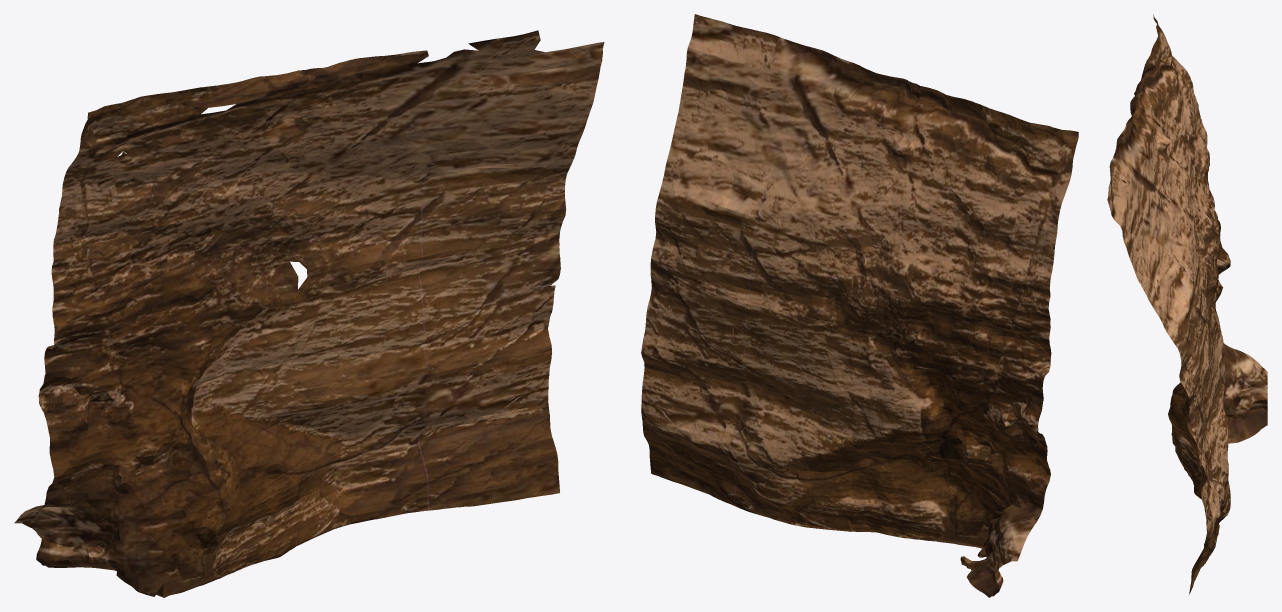
3 views of the same model, side by side, from view 1: azimuth 30°, elevation 25°; view 2: azimuth 150°, elevation 25°; view 3: azimuth 270°, elevation 25° (orthographic). The views are drawn at different scales.
Bounding box in the file's own units: 1.04 × 1.04 × 0.3812.
Materials: 3 (3 with a texture image).
